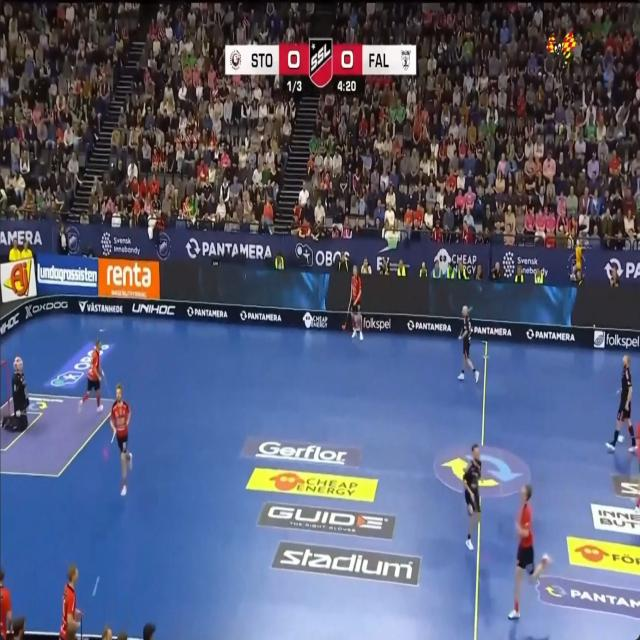player: (509, 484, 550, 619), (606, 356, 636, 452), (111, 384, 132, 496), (462, 444, 481, 550), (78, 339, 103, 412), (59, 564, 81, 639), (458, 306, 479, 382), (351, 265, 362, 339)
stick: (102, 369, 111, 396), (342, 315, 348, 329), (347, 292, 351, 311), (80, 617, 83, 639), (111, 431, 115, 443)
